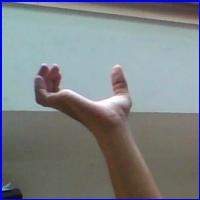B: (30, 56, 143, 134)
